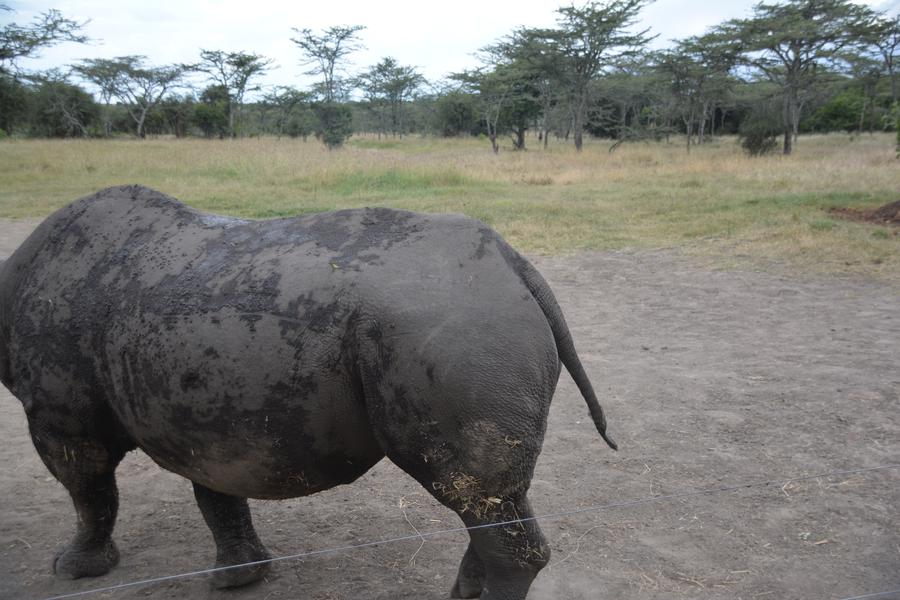rhino: (27, 214, 556, 545)
